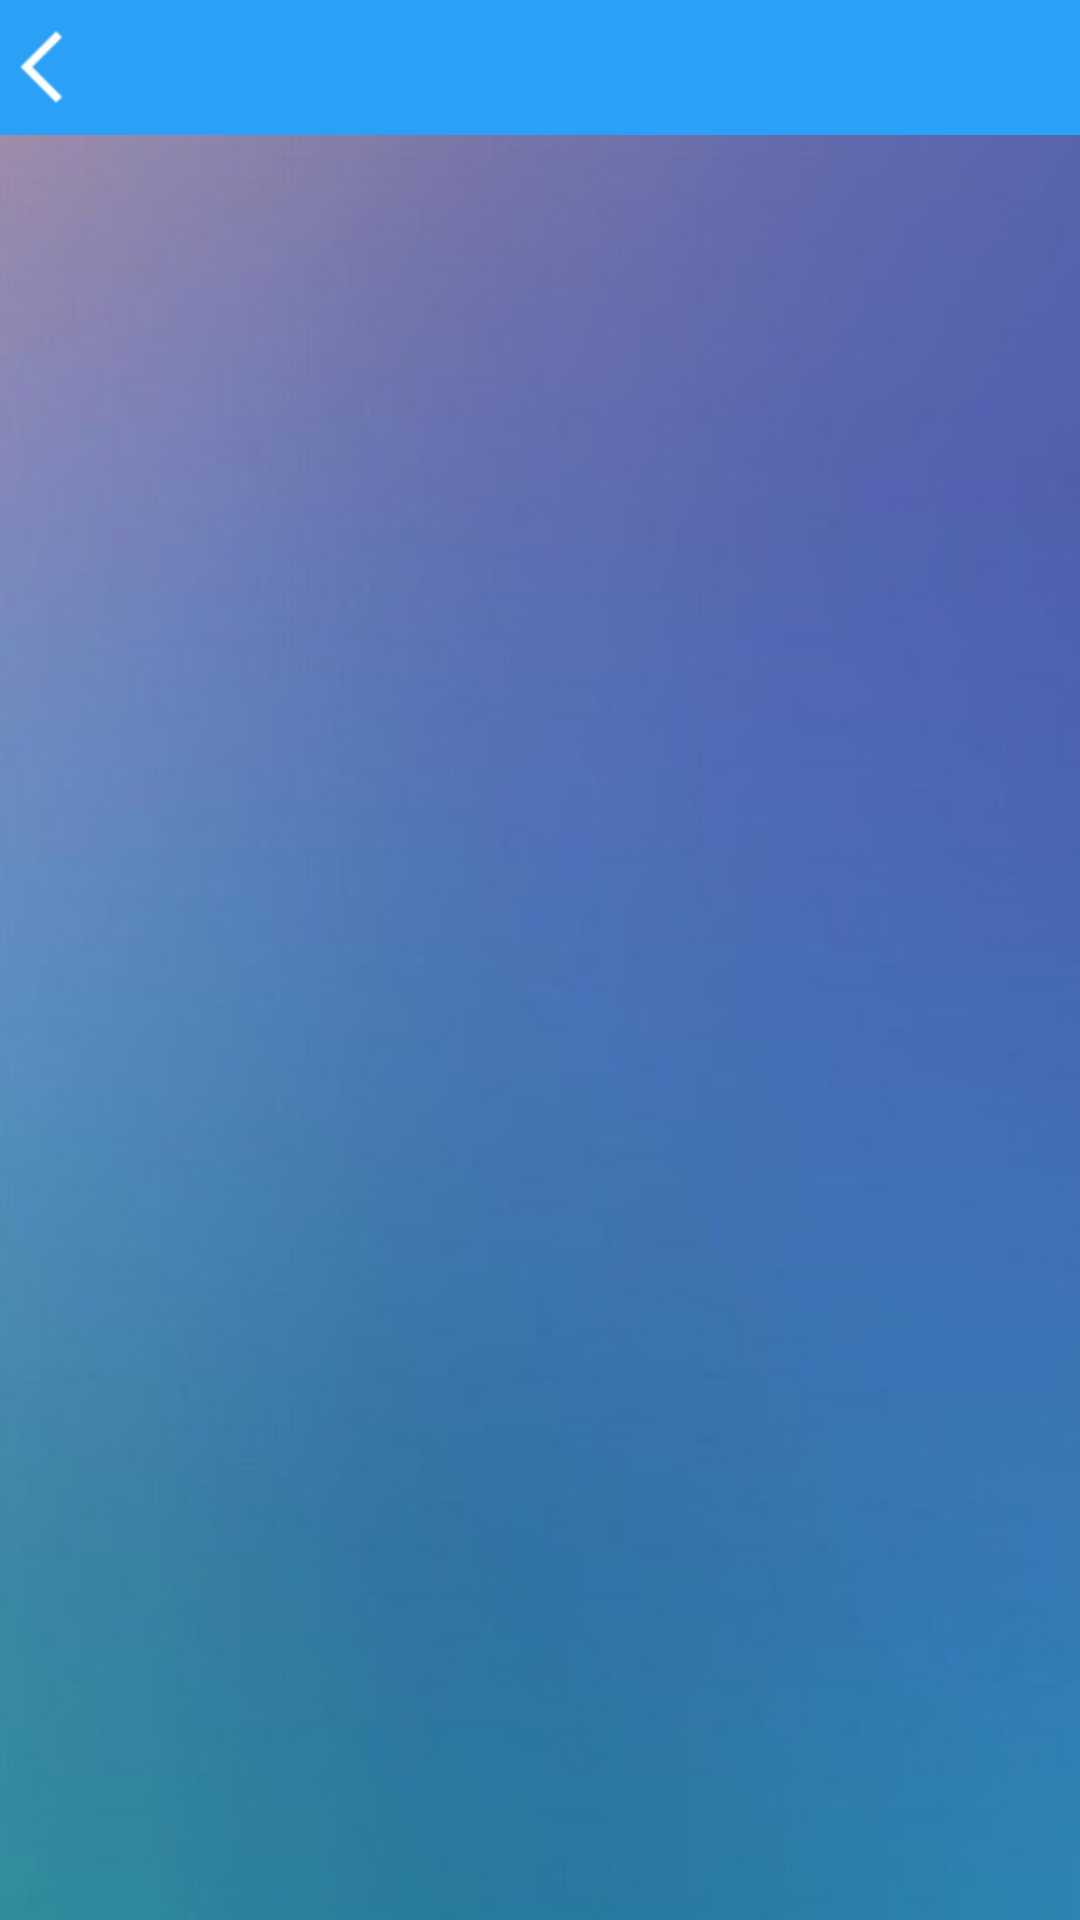

Icon click points for this 1080×1920 phone screenshot, format (x,y):
fanhui: (41,67)
